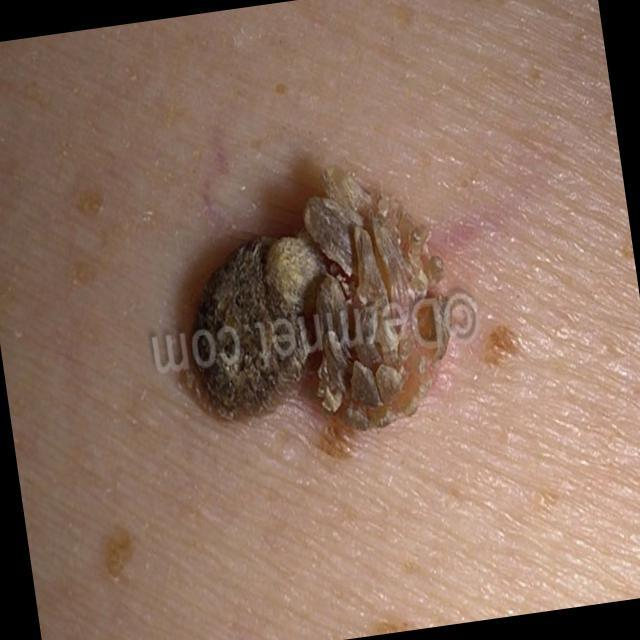Eczema: (173, 148, 461, 462)
